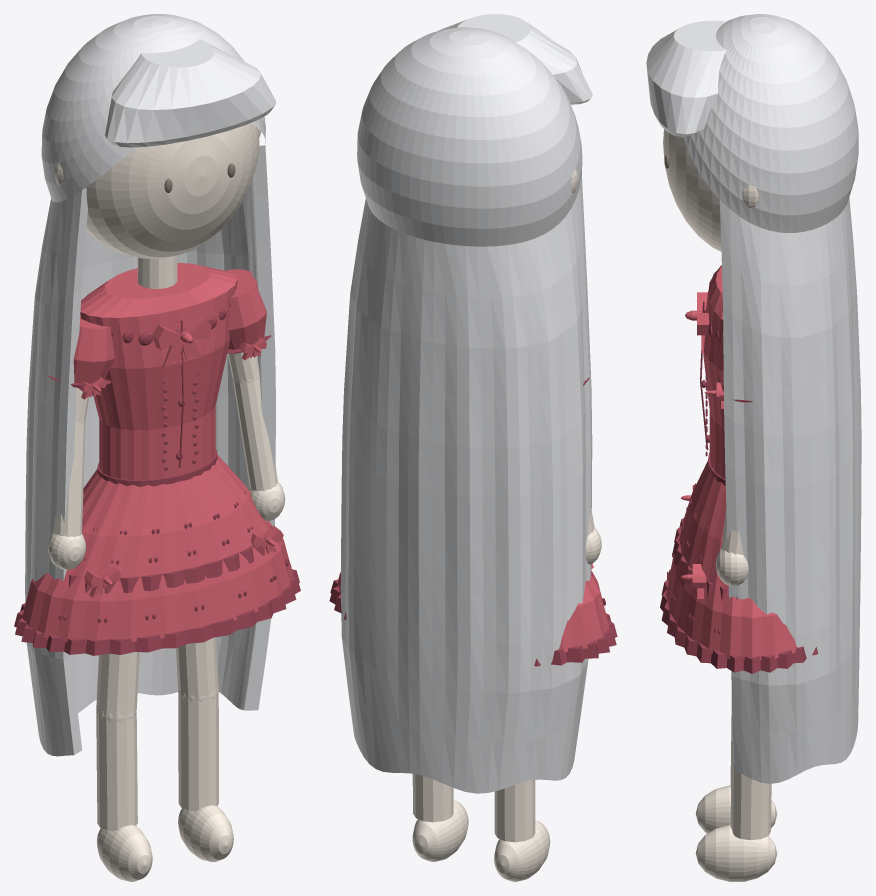
File: 05_whitehair_red_dress.glb
3 views of the same model, side by side, from view 1: azimuth 30°, elevation 25°; view 2: azimuth 150°, elevation 25°; view 3: azimuth 270°, elevation 25° (orthographic).
Visible parts, largest first — view 1: whitehair, red, skin, darkred; view 2: whitehair, skin, red, darkred; view 3: whitehair, red, skin, darkred.
Part boxes in pixels (box(x1,y1,x2,y2)): whitehair: box(25, 14, 276, 756); red: box(22, 262, 293, 642); skin: box(48, 123, 285, 881); darkred: box(14, 302, 300, 655); whitehair: box(340, 14, 592, 793); skin: box(412, 169, 601, 881); red: box(337, 564, 609, 652); darkred: box(329, 377, 617, 666); whitehair: box(646, 14, 861, 783); red: box(666, 265, 797, 659); skin: box(663, 129, 777, 881); darkred: box(660, 301, 817, 673).
Bounding box in the file's own units: 0.5405 × 1.59 × 0.37.
